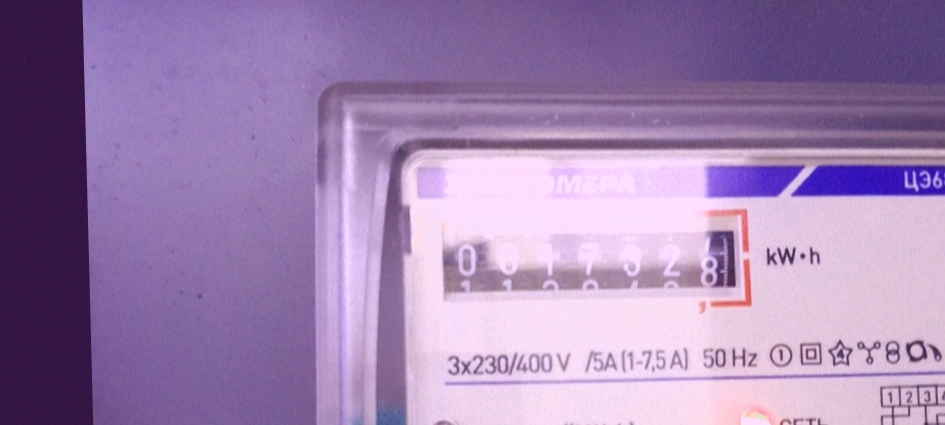0: (454, 239, 477, 276), (496, 240, 517, 274)
1: (539, 239, 555, 275)
2: (658, 241, 679, 278)
3: (618, 241, 641, 277)
7: (575, 238, 600, 276)
8: (696, 252, 716, 287)
screen: (429, 207, 754, 316)
